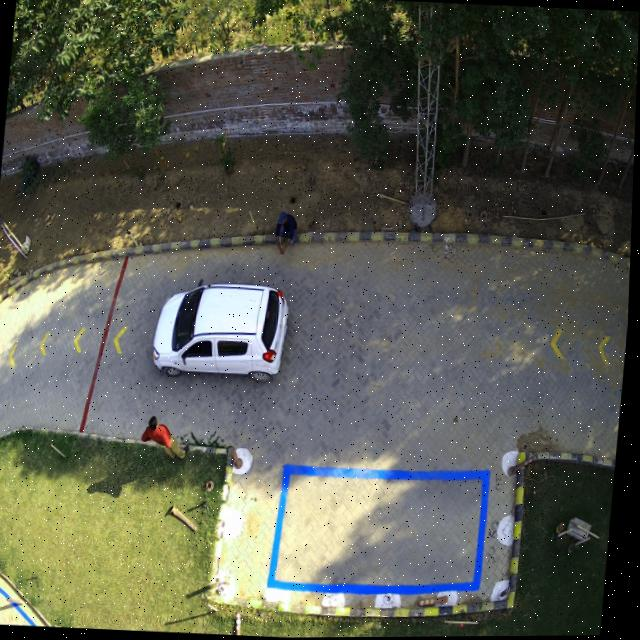car: (155, 283, 291, 378)
